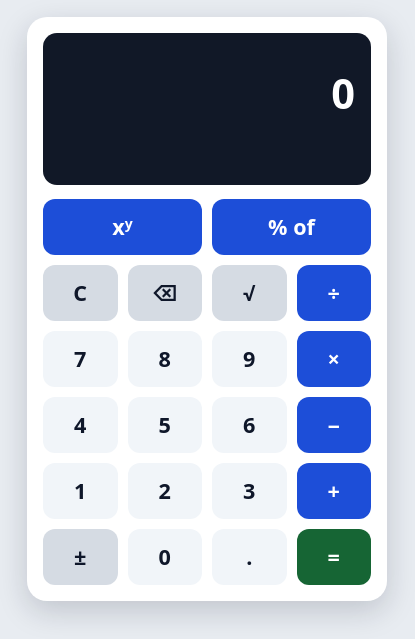
App › shows a plain-language message when the service cannot be reached and stays usable
The image size is (415, 639).
Click the button "1": {"x": 80, "y": 491} [43,463,118,519]
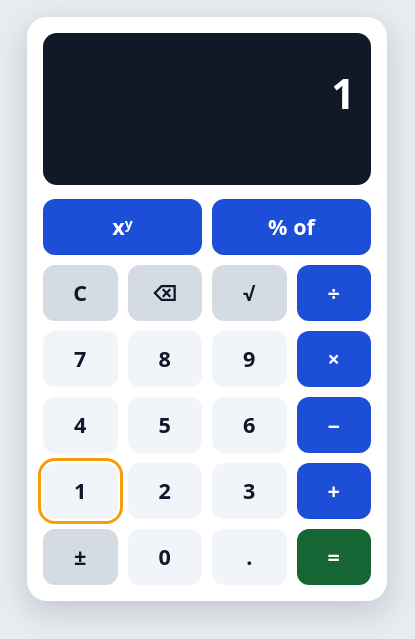
Click the button named "add": {"x": 334, "y": 491} [296,463,371,519]
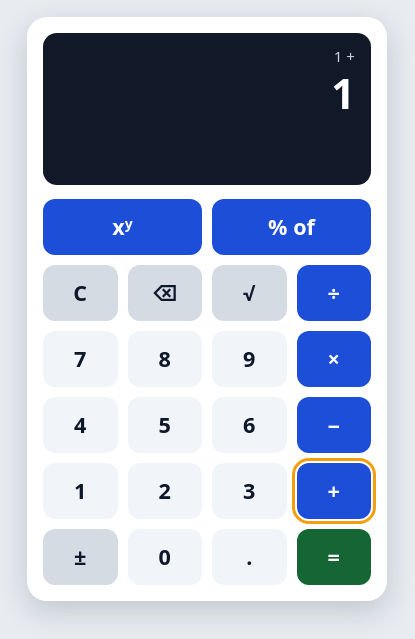
Click the button "1": {"x": 80, "y": 491} [43,463,118,519]
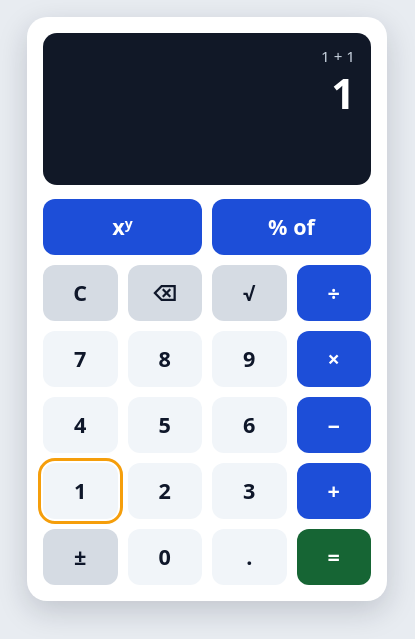
Click the button named "equals": {"x": 334, "y": 557} [296,529,371,585]
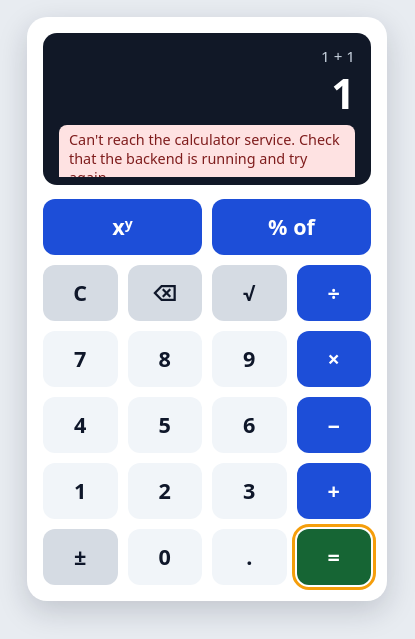
Now the message shows "Can't reach the calculator service. Check that the backend is running and try again.", box [69,130,340,177]
Click the button named "equals": {"x": 334, "y": 557} [296,529,371,585]
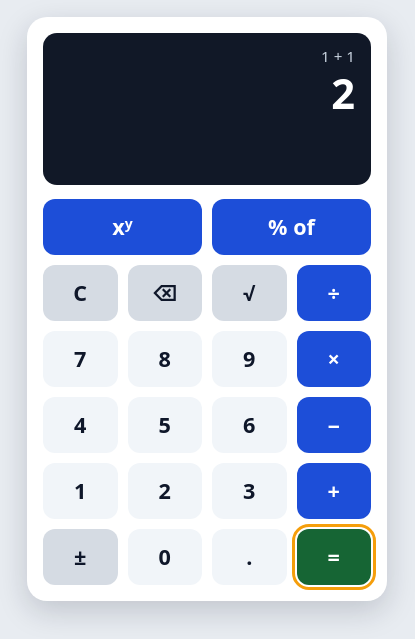
Now the message is gone
